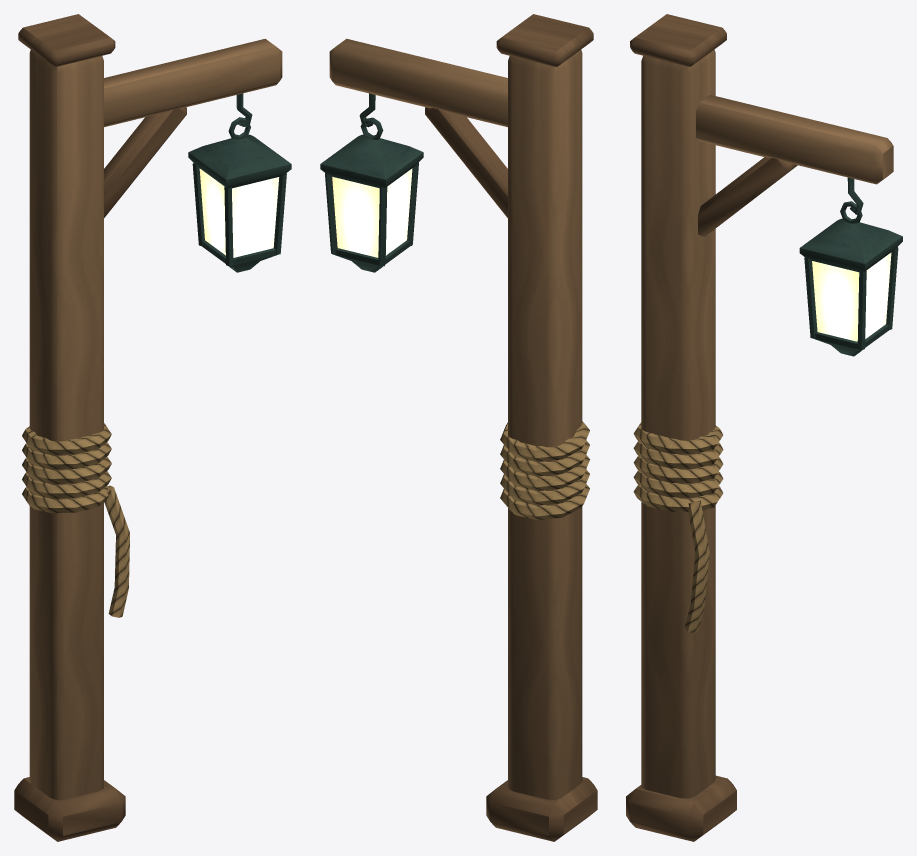
The model's file is lantern-post.glb.
The picture shows the model from 3 angles, left to right: view 1: azimuth 30°, elevation 25°; view 2: azimuth 150°, elevation 25°; view 3: azimuth 330°, elevation 25°; orthographic projection.
Visible parts, largest first — view 1: lantern-post; view 2: lantern-post; view 3: lantern-post.
Part boxes in pixels (left/top/right/bottom): lantern-post: left=14, top=14, right=291, bottom=841; lantern-post: left=320, top=14, right=597, bottom=841; lantern-post: left=626, top=14, right=902, bottom=841.
Size of the model in its own units: 0.807 by 2.45 by 0.25.
Materials: 4 (4 with a texture image).
